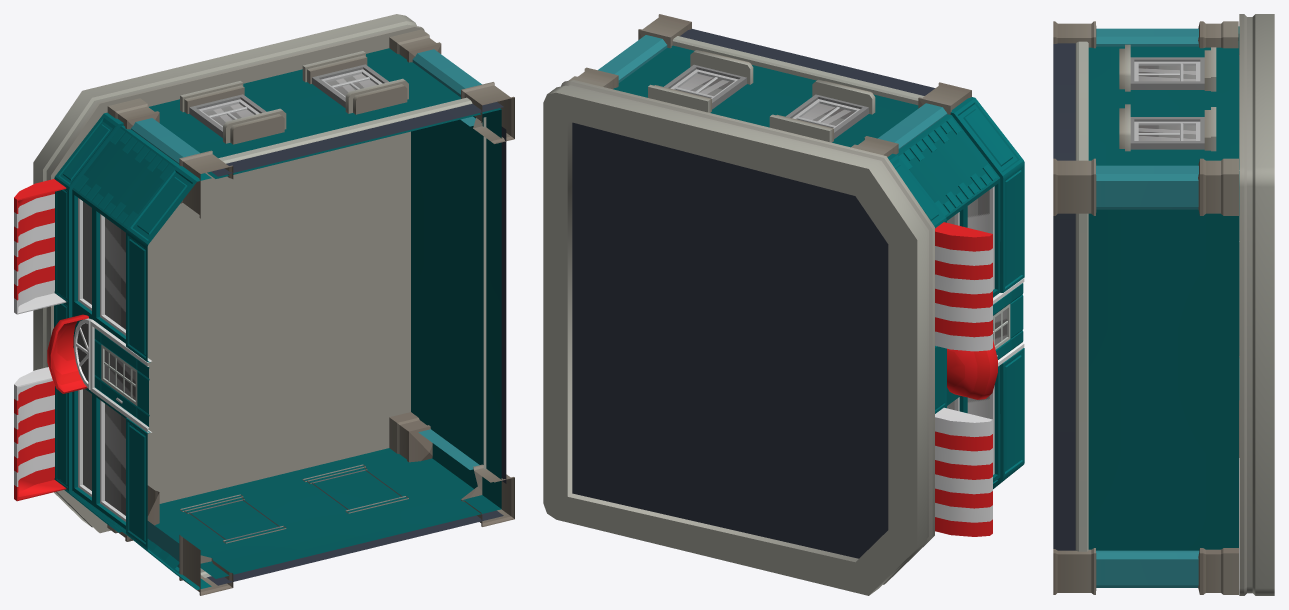
Rendered from Building_3_1_A.glb.
The picture shows the model from 3 angles, left to right: view 1: azimuth 30°, elevation 25°; view 2: azimuth 150°, elevation 25°; view 3: azimuth 270°, elevation 25°; orthographic projection.
Visible parts, largest first — view 1: Building 3_1_A; view 2: Building 3_1_A; view 3: Building 3_1_A.
Part boxes in pixels (box(x1,y1,x2,y2)): Building 3_1_A: box(14, 14, 514, 595); Building 3_1_A: box(543, 14, 1024, 595); Building 3_1_A: box(1053, 14, 1274, 595).
Size of the model in its own units: 8.2 by 8.12 by 3.73.
4 materials, 4 textured.
